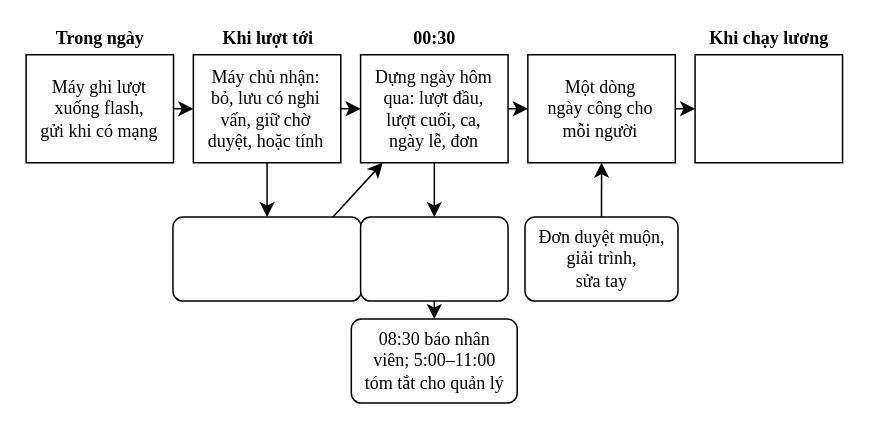
The diagram is 870 pixels wide and 431 high, and some of its shapes have lost their labels. The shapes that lost their labels are listed below. From the top down, each one's centre as x and y in pixels, then its label:
At (768,108): "Lượt tính lương đọc ngày công của kỳ".
At (266,258): "Lượt của ngày đã qua: dựng lại ngày đó".
At (433,258): "Mở việc: vắng, muộn, về sớm, thiếu lượt".
